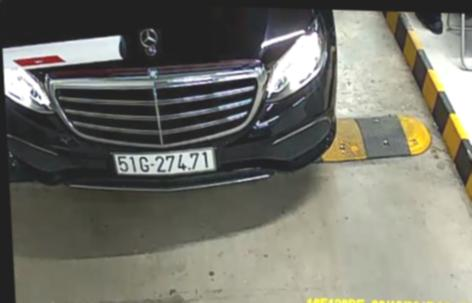License_Plate: (106, 143, 219, 180)
